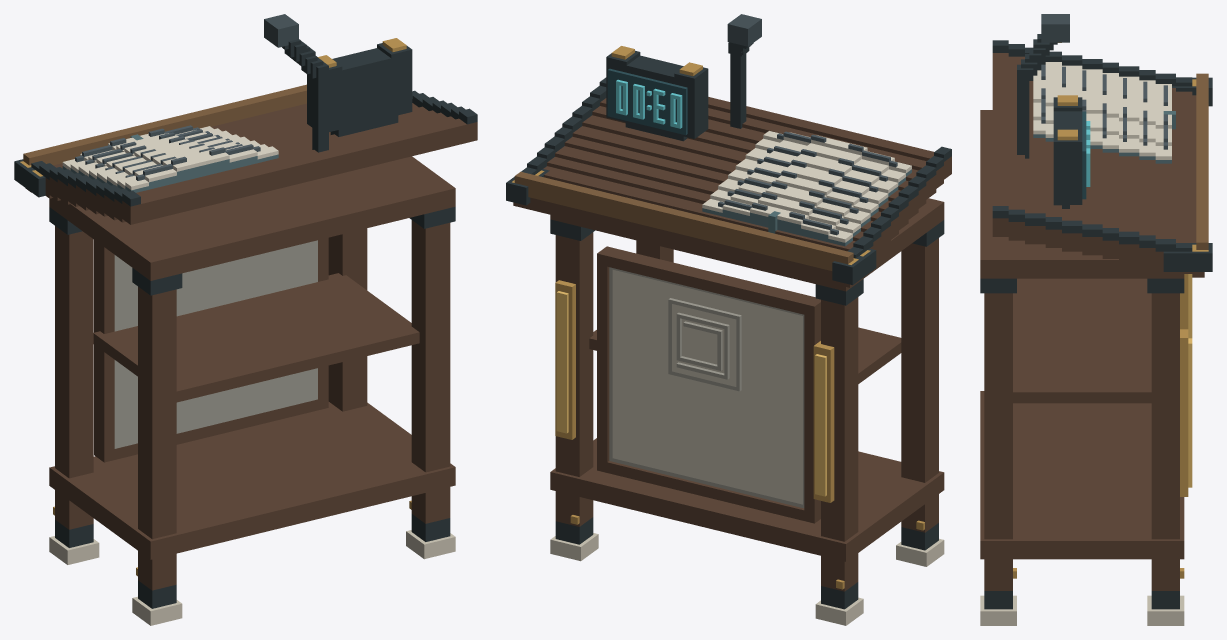
Rendered from LIFE-180.glb.
3 renders of one model, left to right at view 1: azimuth 30°, elevation 25°; view 2: azimuth 150°, elevation 25°; view 3: azimuth 270°, elevation 25°, orthographic. The views are drawn at different scales.
Visible parts, largest first — view 1: 哲学辩论讲席; view 2: 哲学辩论讲席; view 3: 哲学辩论讲席.
Boxes of the visible parts, x1=… form: 哲学辩论讲席: x1=14, y1=14, x2=477, y2=625; 哲学辩论讲席: x1=506, y1=14, x2=951, y2=625; 哲学辩论讲席: x1=980, y1=14, x2=1212, y2=625.
Bounding box in the file's own units: 1.02 × 1.46 × 0.57.
Materials: 14 (14 with a texture image).
